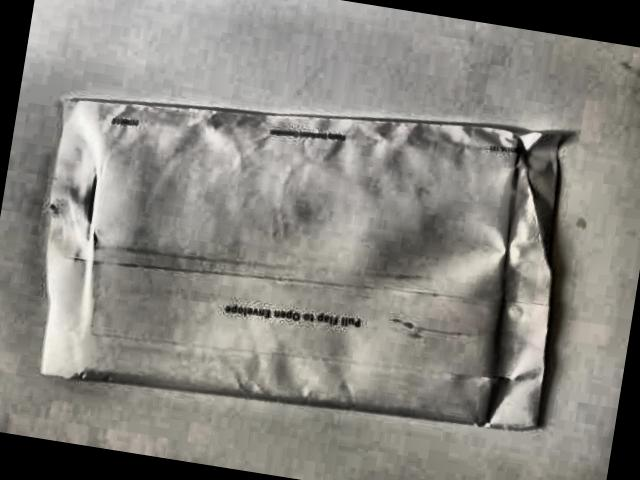Paper: (21, 48, 608, 453)
